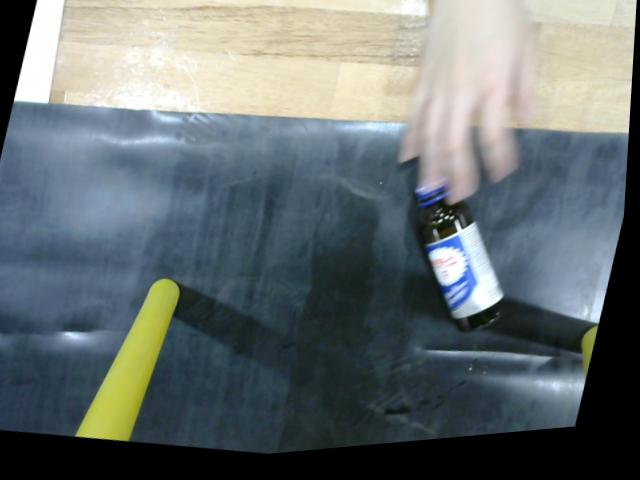glass: (404, 169, 528, 351)
